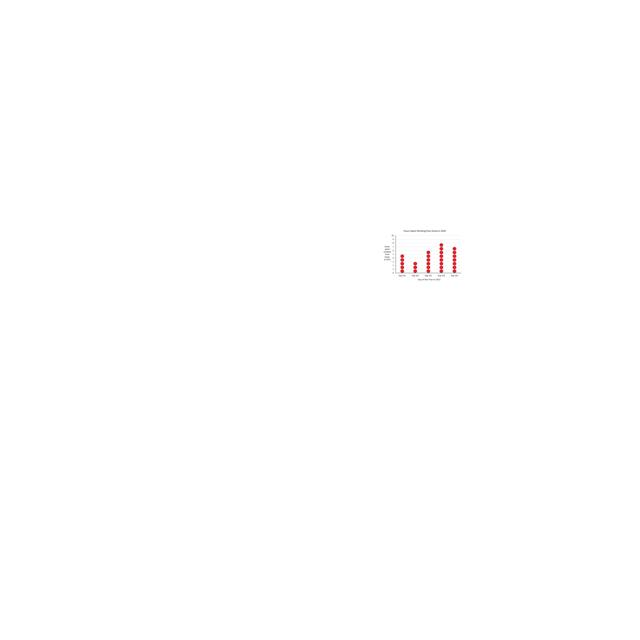Graph: (383, 229, 462, 282)
